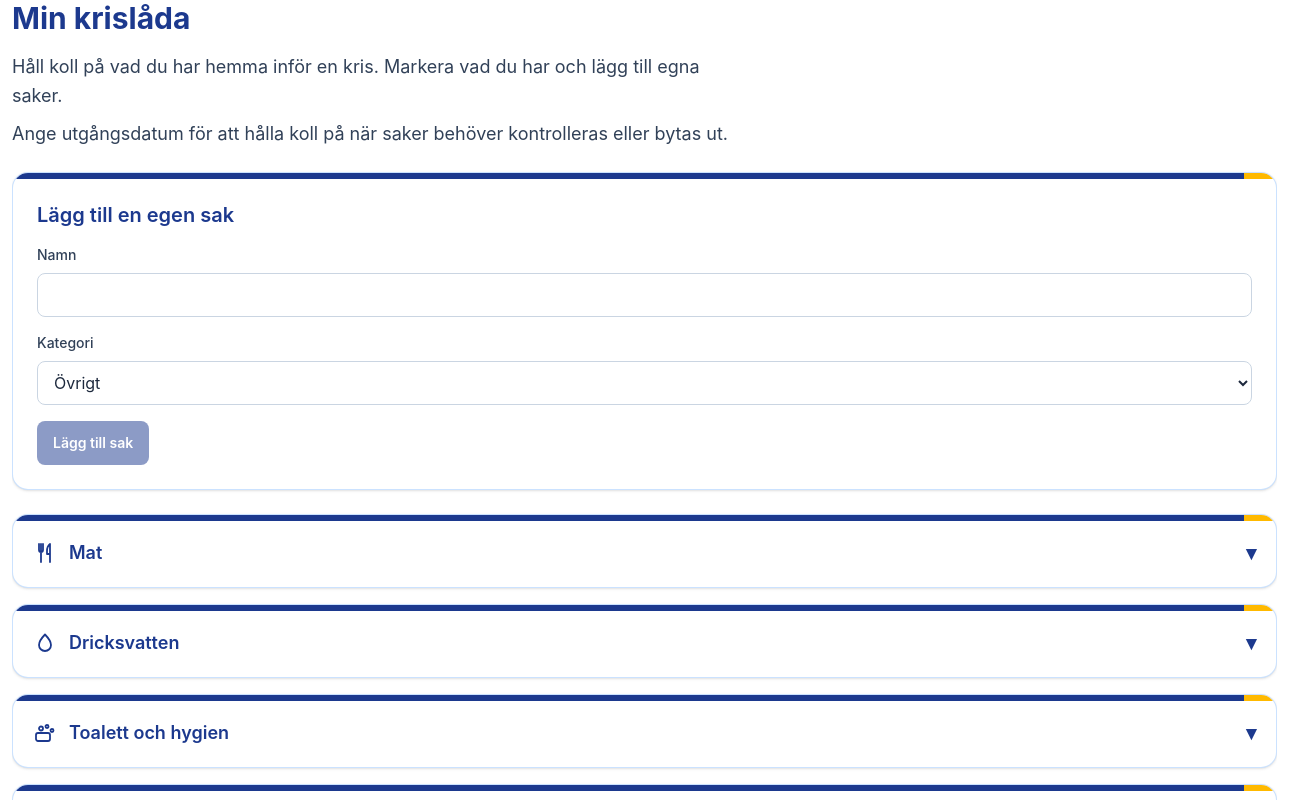
Test: CrisisKitPage category sections › shows recommended and custom items in separate groups within a category
Click the heading "Mat ▾": click(628, 518) [13,515,1276,587]
(page scrolled)
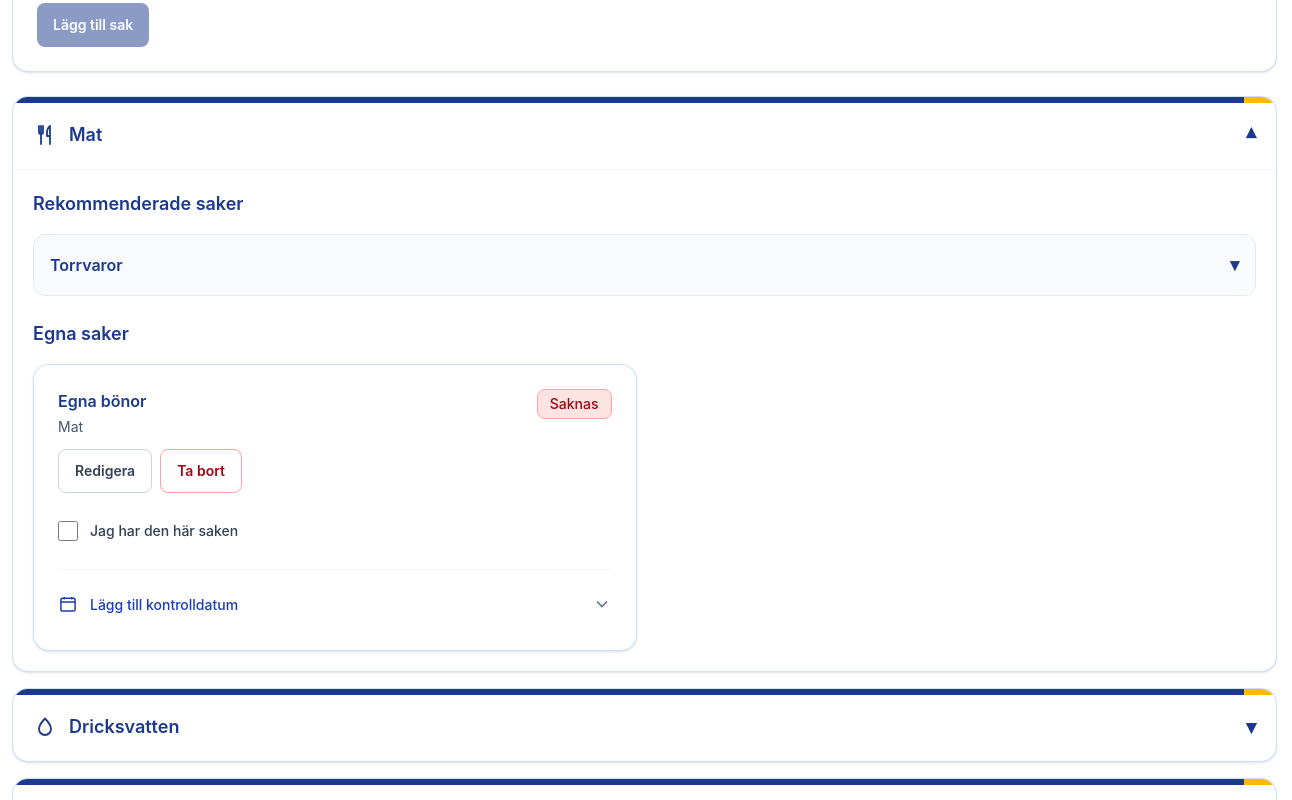
Now the element "Rekommenderade saker" is shown, box [33,190,1256,296]
Now the element "Egna saker" is shown, box [33,323,636,651]
Now the heading "Torrvaror" is shown, box [50,253,123,277]
